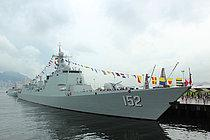MIL_Ship: (17, 50, 189, 123)
